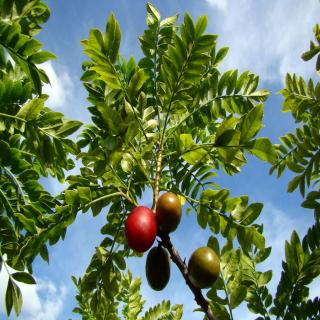tomato: (186, 245, 222, 291), (125, 204, 157, 252), (144, 247, 170, 292), (156, 192, 184, 232)
